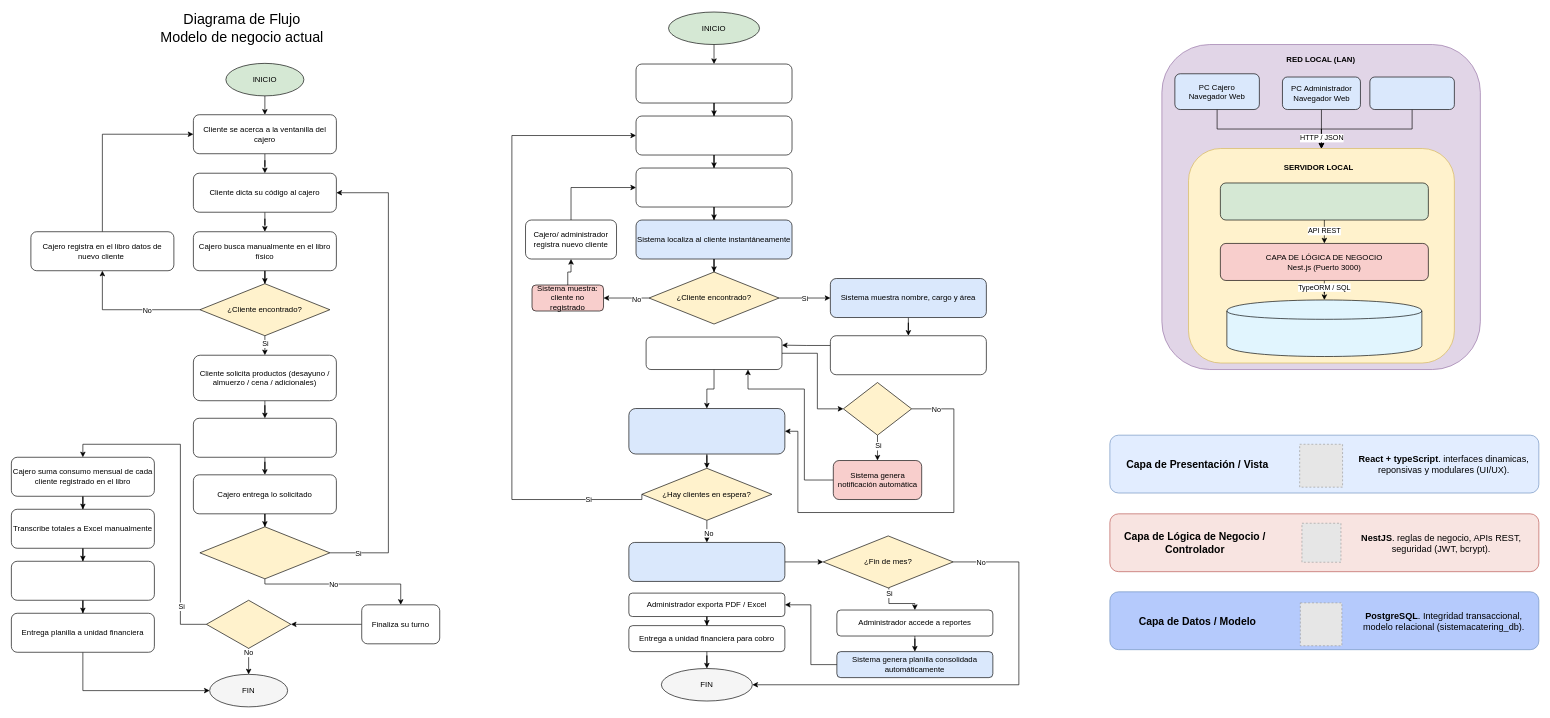
Image size: 1550x718. Some labels were removed from this diagram. Grey dashed boxes stand in for pictures. Here are the shapes that lost their labels. From the top down, the box of each, then its label:
(635, 63, 792, 103): Cajero/Administrador inicia sesión en el sistema web
(1369, 76, 1454, 110): Tablet / Móvil Navegador Web
(635, 115, 792, 155): Cliente se acerca a la ventanilla
(635, 167, 792, 207): Cajero ingresa código del cliente en el sistema
(1220, 182, 1428, 220): CAPA DE PRESENTACIÓN React (Puerto 5173)
(1226, 299, 1422, 357): CAPA DE DATOS PostgreSQL (Puerto 5432)
(645, 336, 782, 370): Cajero selecciona productos y registra transacción
(830, 335, 986, 375): Cliente solicita productos (desayuno, almuerzo, cena o productos adicionales)
(843, 382, 912, 435): ¿Stock bajo?
(193, 418, 336, 457): Cajero anota consumo en el libro
(628, 408, 785, 454): Sistema guarda consumo (fecha, hora, turno, usuario)
(199, 526, 330, 579): ¿Hay más clientes en fila?
(628, 542, 785, 581): FIN DEL TURNO
(11, 561, 154, 600): Imprime planilla mensual
(206, 600, 291, 648): fin de mes
